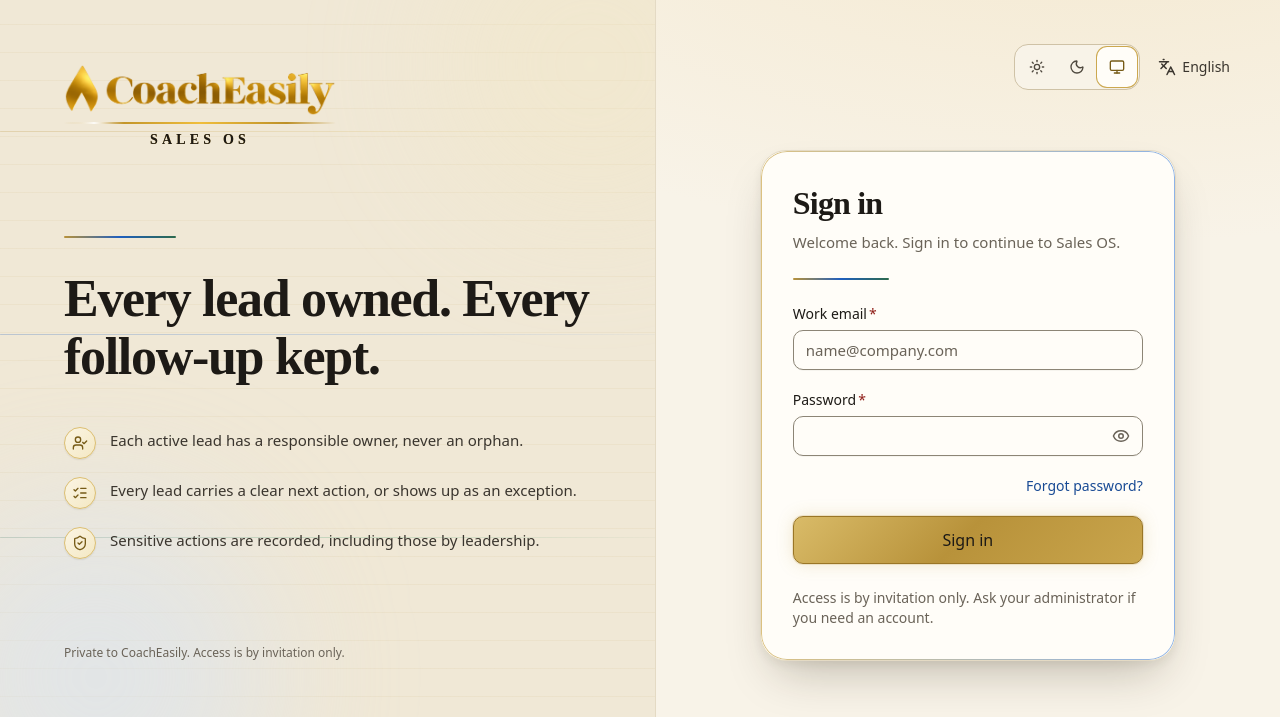
Scenario: LoginPage › shows an accessible error for bad credentials and stays on the page
Type "a@x.co" into the field labelled "Work email*". click: [968, 350]
box: top-left (793, 330), bottom-right (1143, 370)
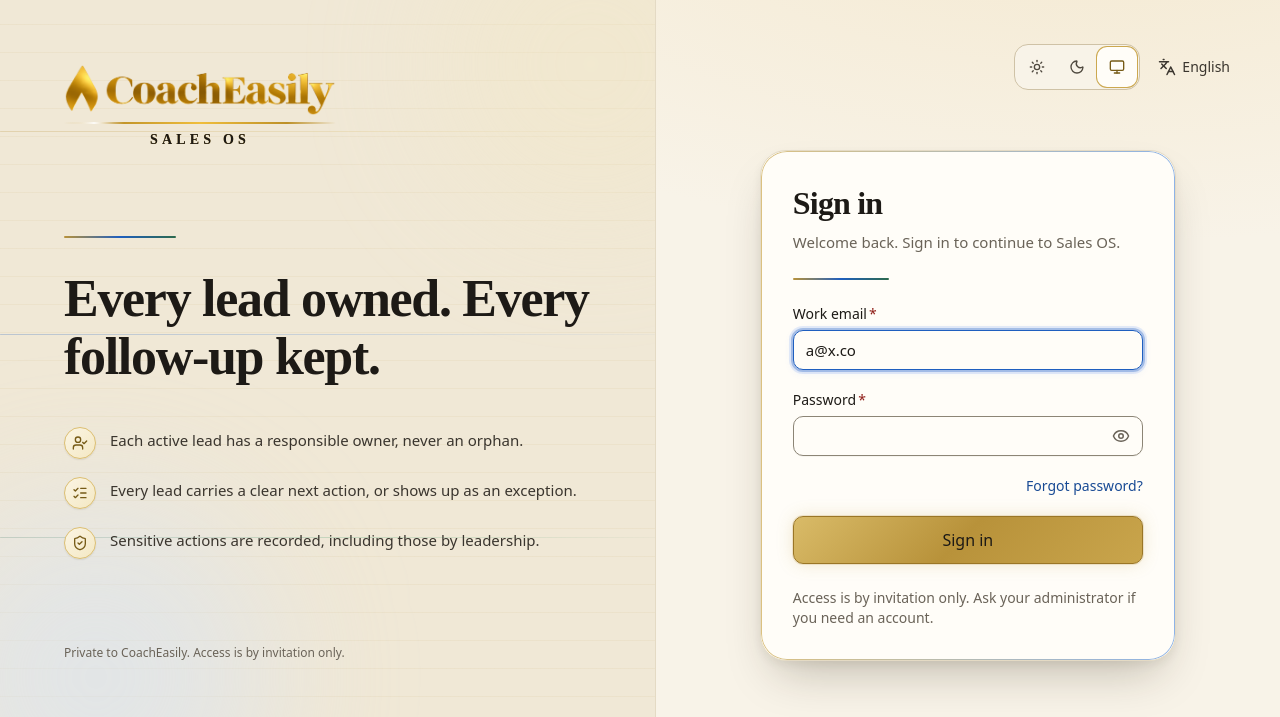
Type "wrong" into the password field labelled "Password*". click: [968, 436]
box: top-left (793, 416), bottom-right (1143, 456)
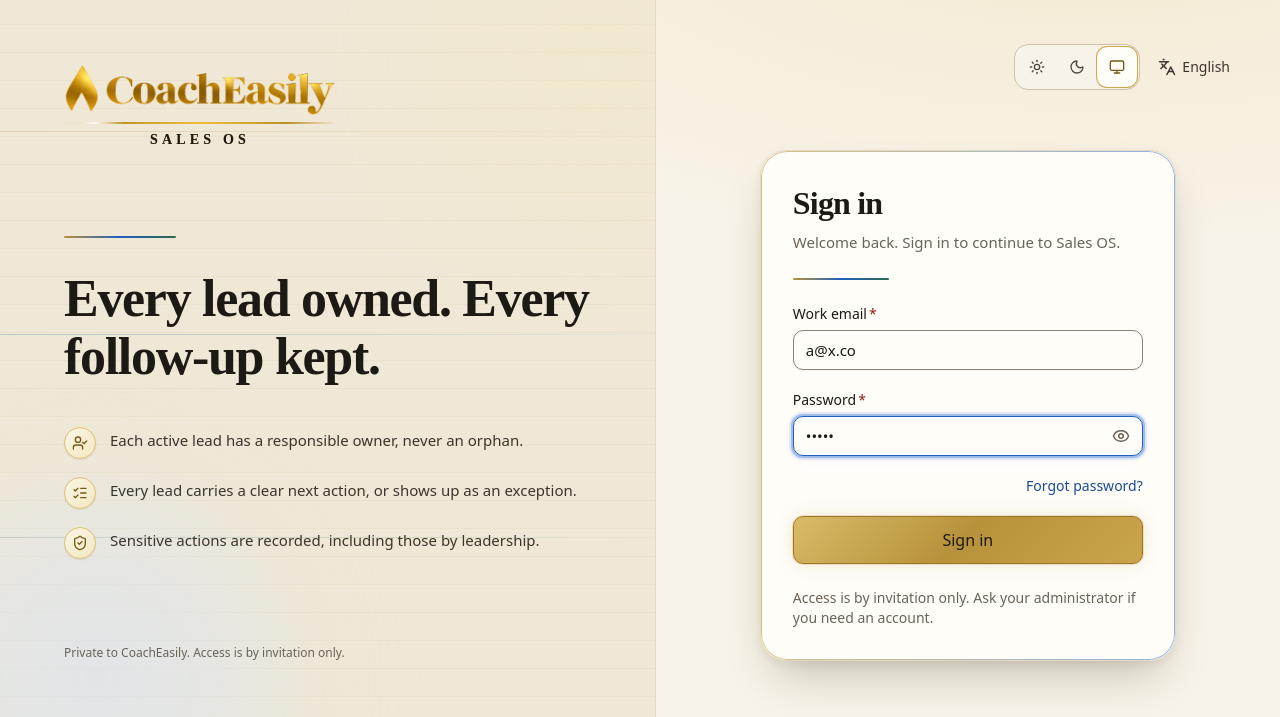
Click the button "Sign in". click: [968, 540]
box: top-left (793, 516), bottom-right (1143, 564)
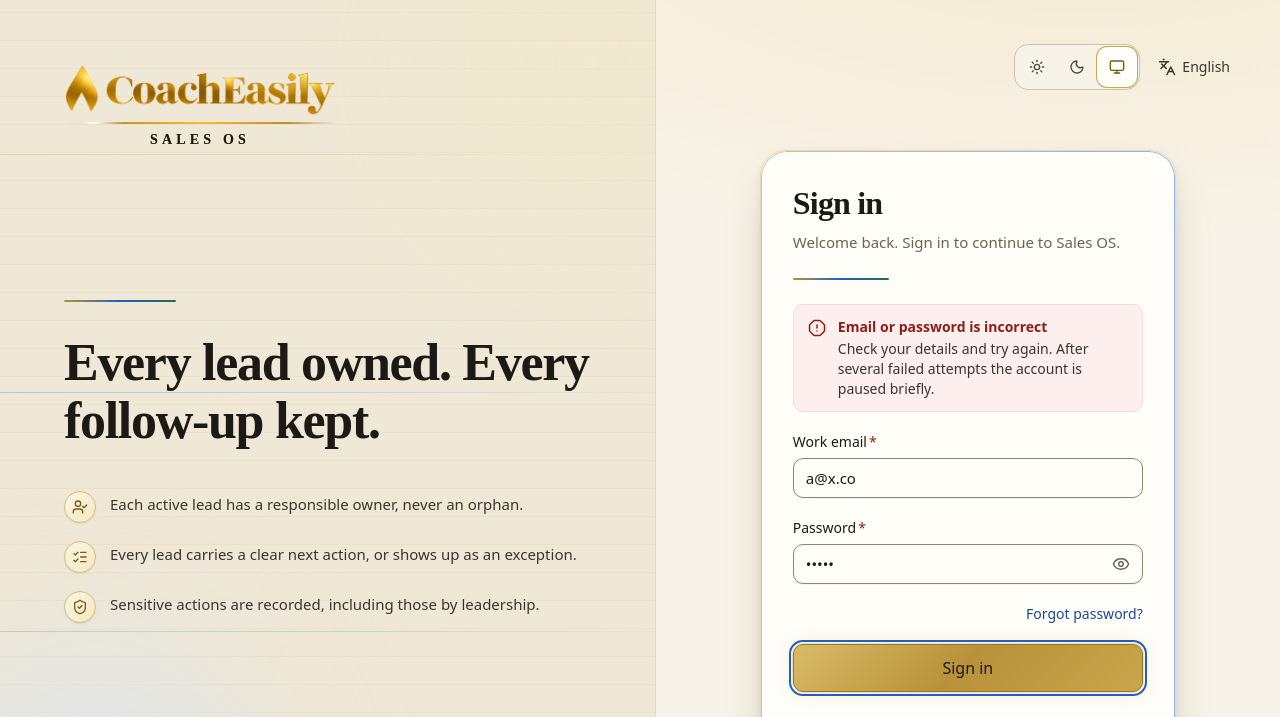
Check: the message shows "incorrect", box top-left (838, 317), bottom-right (1047, 336)
